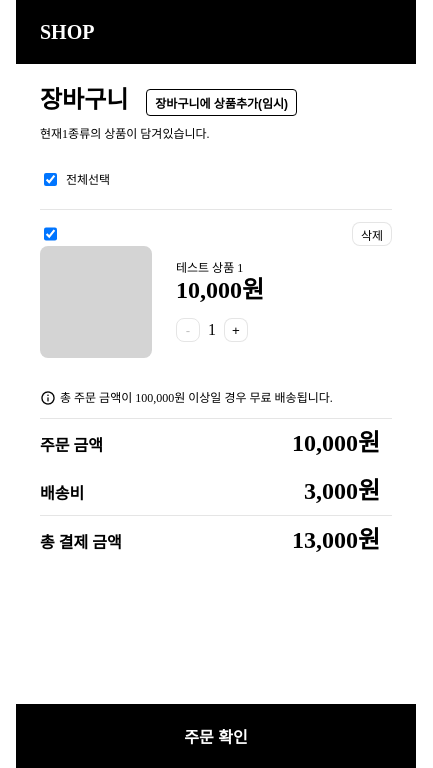
Scenario: CartPage › - 또는 + 버튼을 누르면 상품 수량이 1씩 증가하거나 감소한다
Check: the text "테스트 상품 1" is shown, box [176,262,243,274]
Click the button "+" at (236, 330), box [224,318,248,342]
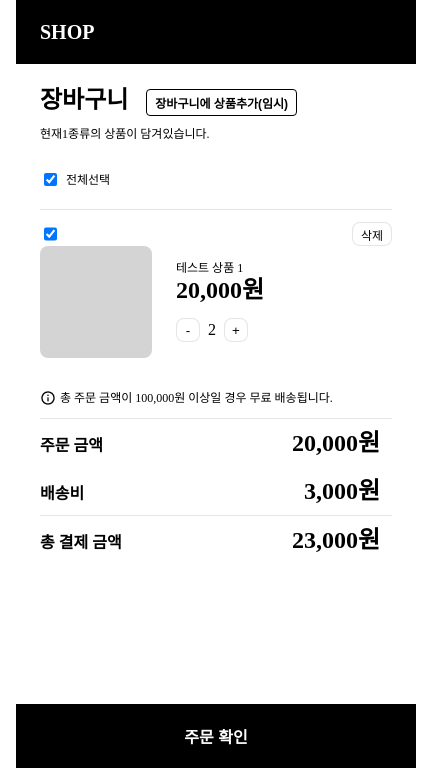
Check: the row "주문 금액 20,000원" is shown, box [40,418,392,467]
Click the button "-" at (188, 330), box [176,318,200,342]
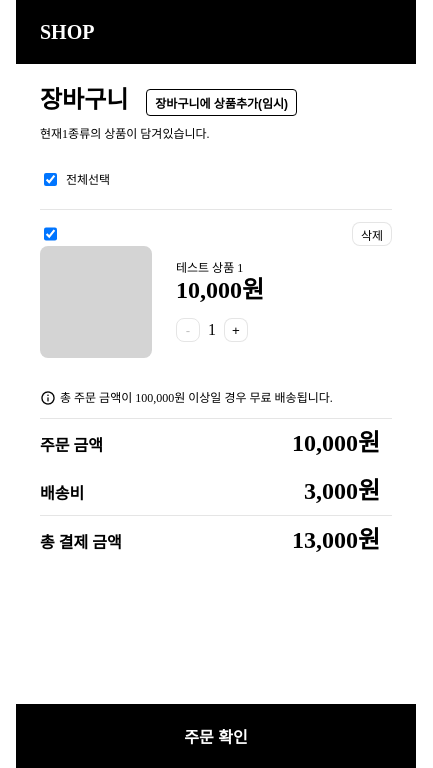
Check: the row "주문 금액 10,000원" is shown, box [40,418,392,467]
